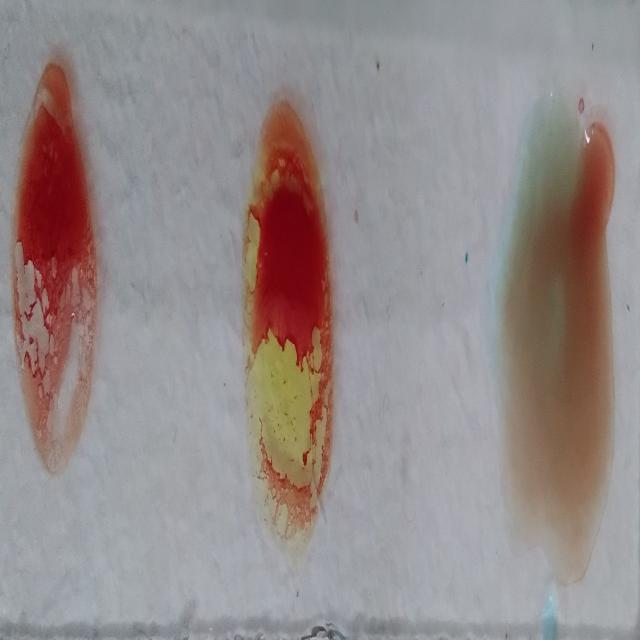B: (242, 94, 329, 535)
D: (16, 61, 90, 469)
